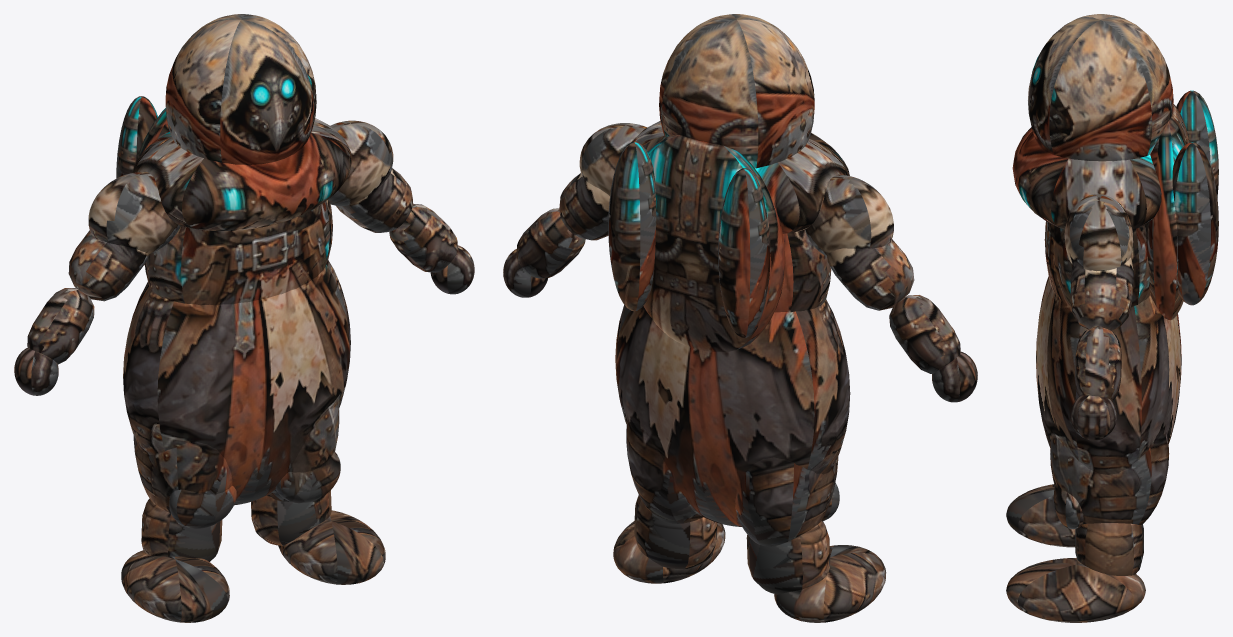
File: ashland-survivor-r20.glb
3 renders of one model, left to right at view 1: azimuth 30°, elevation 25°; view 2: azimuth 150°, elevation 25°; view 3: azimuth 270°, elevation 25°, orthographic. The views are drawn at different scales.
Visible parts, largest first — view 1: Hero | torn coat volume, Hero | hood and gas mask mass, Hero | scarf and collar mass, Hero | armored torso, Hero | scavenger boot L, Hero | scavenger boot R, Hero | shallow pauldron L, Hero | thigh L, Hero | upper sleeve L, Hero | shallow pauldron R, Hero | armored forearm L, Hero | wrapped shin L (+9 smaller); view 2: Hero | torn coat volume, Hero | hood and gas mask mass, Hero | rear pack volume, Hero | reactor tank L, Hero | thigh L, Hero | reactor tank R, Hero | scarf and collar mass, Hero | scavenger boot L, Hero | shallow pauldron L, Hero | upper sleeve L, Hero | wrapped shin L, Hero | armored forearm L (+9 smaller); view 3: Hero | hood and gas mask mass, Hero | torn coat volume, Hero | scarf and collar mass, Hero | scavenger boot R, Hero | thigh R, Hero | reactor tank R, Hero | rear pack volume, Hero | shallow pauldron R, Hero | upper sleeve R, Hero | wrapped shin R, Hero | armored forearm R, Hero | armored torso (+4 smaller).
Boxes of the visible parts, x1,y1,x2,y2 form: Hero | torn coat volume: [123, 260, 350, 505]; Hero | hood and gas mask mass: [165, 14, 316, 164]; Hero | scarf and collar mass: [133, 118, 352, 230]; Hero | armored torso: [145, 200, 332, 305]; Hero | scavenger boot L: [121, 550, 229, 622]; Hero | scavenger boot R: [278, 510, 385, 584]; Hero | shallow pauldron L: [88, 171, 180, 253]; Hero | thigh L: [133, 435, 232, 513]; Hero | upper sleeve L: [68, 230, 149, 301]; Hero | shallow pauldron R: [328, 120, 393, 205]; Hero | armored forearm L: [27, 288, 94, 364]; Hero | wrapped shin L: [141, 499, 222, 561]; Hero | torn coat volume: [615, 299, 850, 526]; Hero | hood and gas mask mass: [659, 14, 814, 168]; Hero | rear pack volume: [643, 135, 785, 351]; Hero | reactor tank L: [718, 168, 770, 337]; Hero | thigh L: [735, 456, 838, 546]; Hero | reactor tank R: [608, 141, 656, 311]; Hero | scarf and collar mass: [631, 121, 849, 233]; Hero | scavenger boot L: [774, 545, 886, 622]; Hero | shallow pauldron L: [804, 174, 893, 256]; Hero | upper sleeve L: [827, 239, 914, 310]; Hero | wrapped shin L: [746, 520, 830, 594]; Hero | armored forearm L: [889, 295, 960, 373]; Hero | hood and gas mask mass: [1028, 14, 1173, 161]; Hero | torn coat volume: [1036, 276, 1181, 474]; Hero | scarf and collar mass: [1012, 127, 1161, 229]; Hero | scavenger boot R: [1006, 558, 1145, 622]; Hero | thigh R: [1050, 433, 1169, 524]; Hero | reactor tank R: [1172, 142, 1218, 305]; Hero | rear pack volume: [1144, 104, 1189, 320]; Hero | shallow pauldron R: [1064, 194, 1133, 271]; Hero | upper sleeve R: [1070, 257, 1133, 330]; Hero | wrapped shin R: [1075, 523, 1143, 575]; Hero | armored forearm R: [1074, 326, 1121, 401]; Hero | armored torso: [1044, 221, 1150, 307].
Bounding box in the file's own units: 1.75 × 2.07 × 0.715.
Materials: 4 (4 with a texture image).
